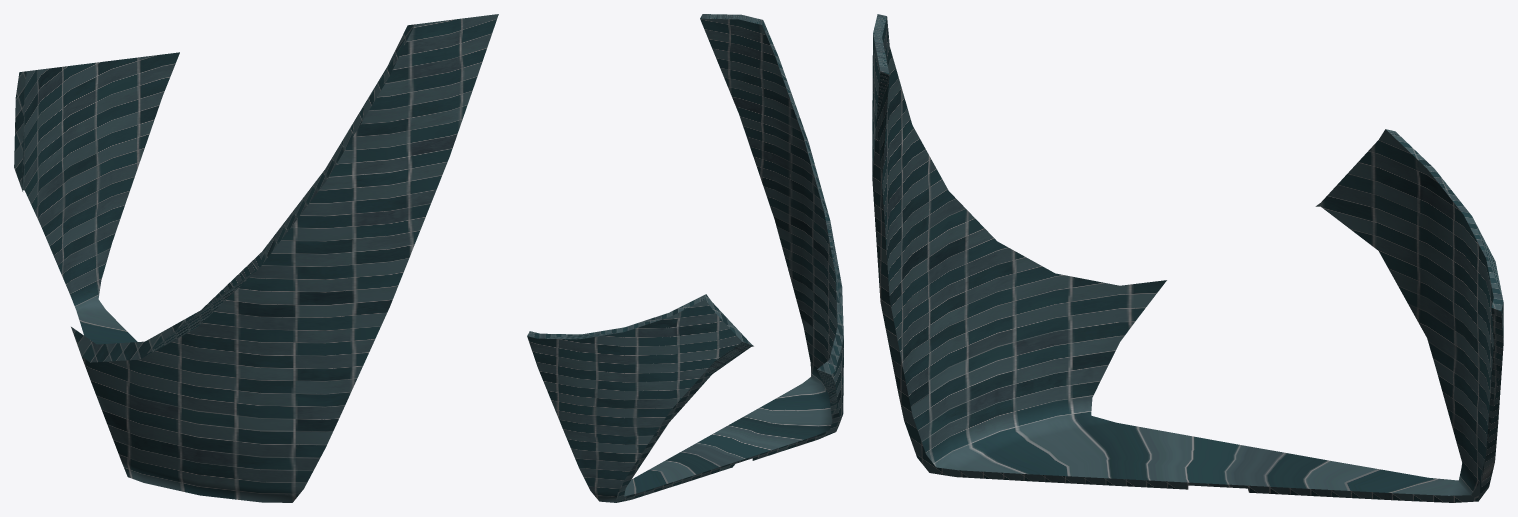
3 renders of one model, left to right at view 1: azimuth 30°, elevation 25°; view 2: azimuth 150°, elevation 25°; view 3: azimuth 270°, elevation 25°, orthographic. The views are drawn at different scales.
Parts seen in each view (by area): view 1: Cylinder_cell.005; view 2: Cylinder_cell.005; view 3: Cylinder_cell.005.
Part boxes in pixels (x1=…): Cylinder_cell.005: x1=14, y1=14, x2=498, y2=502; Cylinder_cell.005: x1=527, y1=14, x2=843, y2=502; Cylinder_cell.005: x1=872, y1=14, x2=1503, y2=502.
Size of the model in its own units: 1.54 by 2.33 by 2.59.
Materials: 1 (1 with a texture image).
